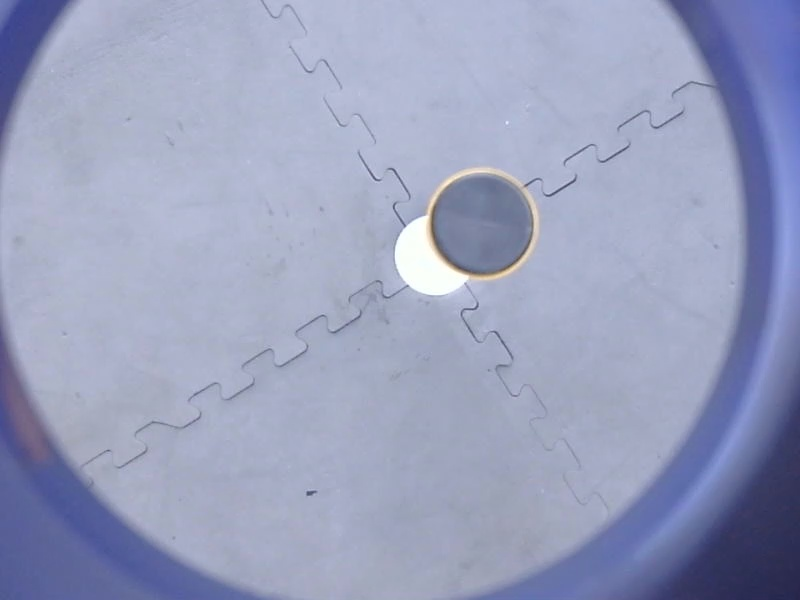tip: (421, 162, 547, 288)
